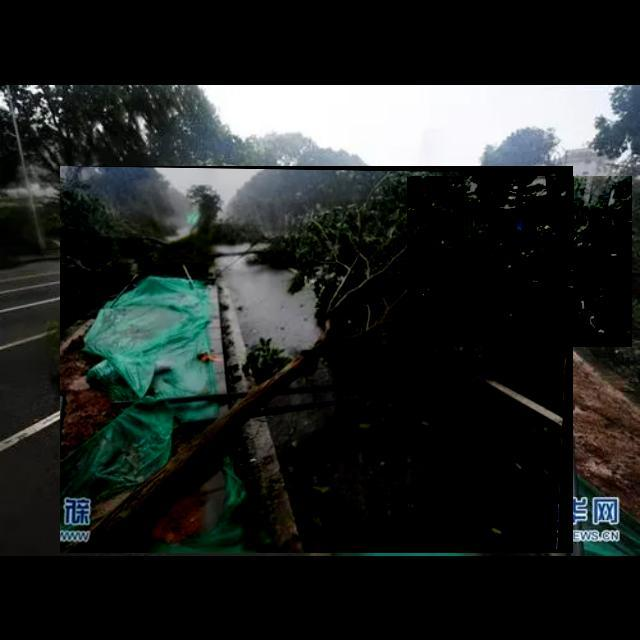fallen_tree: (60, 166, 574, 554), (407, 176, 633, 348)
